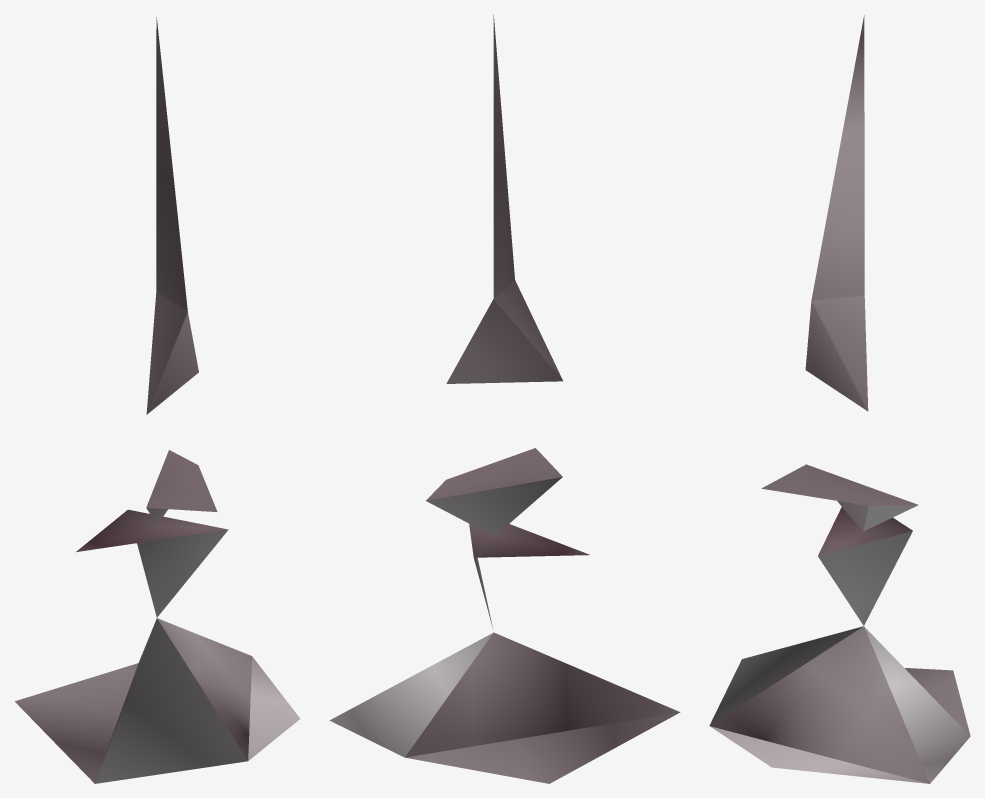
The picture shows the model from 3 angles, left to right: view 1: azimuth 30°, elevation 25°; view 2: azimuth 150°, elevation 25°; view 3: azimuth 270°, elevation 25°; orthographic projection. The views are drawn at different scales.
Visible parts, largest first — view 1: Mesh_0; view 2: Mesh_0; view 3: Mesh_0.
Boxes of the visible parts, x1,y1,x2,y2 form: Mesh_0: (15,17,300,783); Mesh_0: (329,15,680,783); Mesh_0: (709,15,970,783).
Bounding box in the file's own units: 27.93 × 74.4 × 24.94.
1 material, 1 textured.
